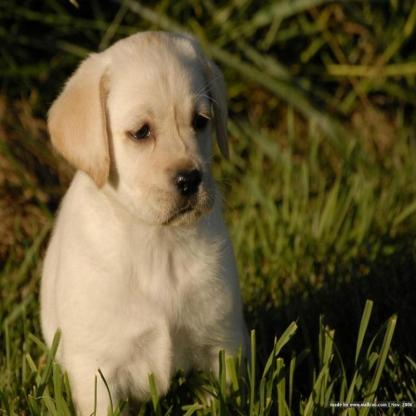Labarador Retriever: (41, 32, 245, 416)
